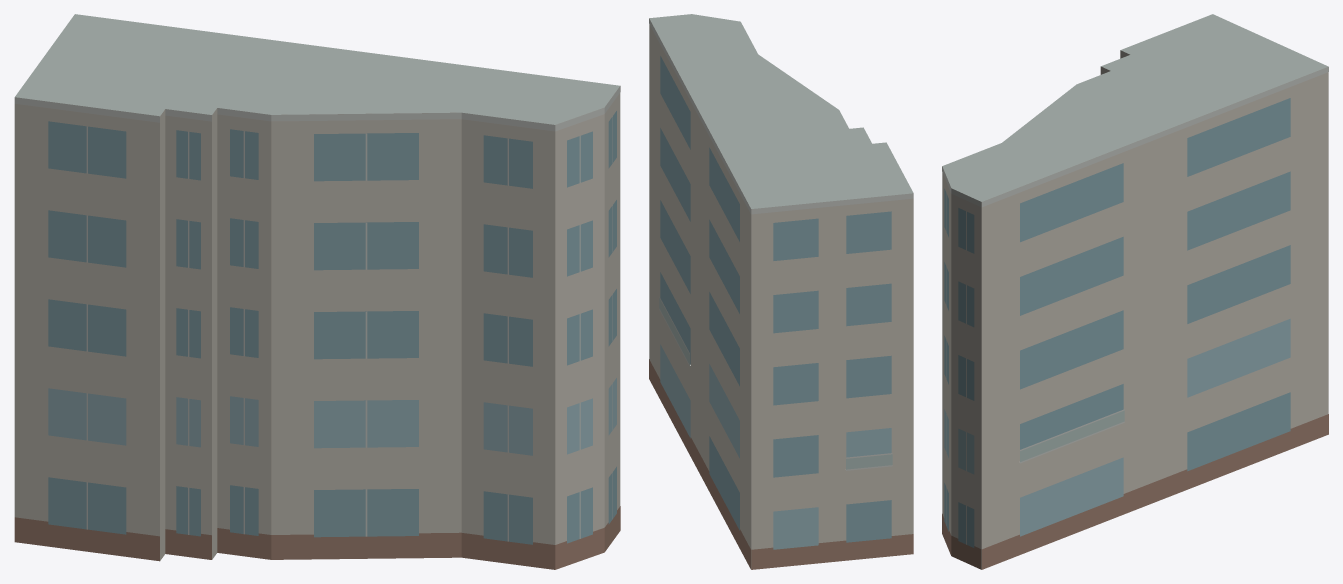
Rendered from survey-upis-33041739.glb.
3 views of the same model, side by side, from view 1: azimuth 30°, elevation 25°; view 2: azimuth 150°, elevation 25°; view 3: azimuth 270°, elevation 25° (orthographic). The views are drawn at different scales.
Parts seen in each view (by area): view 1: survey-upis-33041739.tmp; view 2: survey-upis-33041739.tmp; view 3: survey-upis-33041739.tmp.
Boxes of the visible parts, box(x1,y1,x2,y2) form: survey-upis-33041739.tmp: box(14, 14, 620, 569); survey-upis-33041739.tmp: box(649, 14, 913, 569); survey-upis-33041739.tmp: box(942, 14, 1328, 569).
Size of the model in its own units: 18.09 by 16.5 by 15.72.
